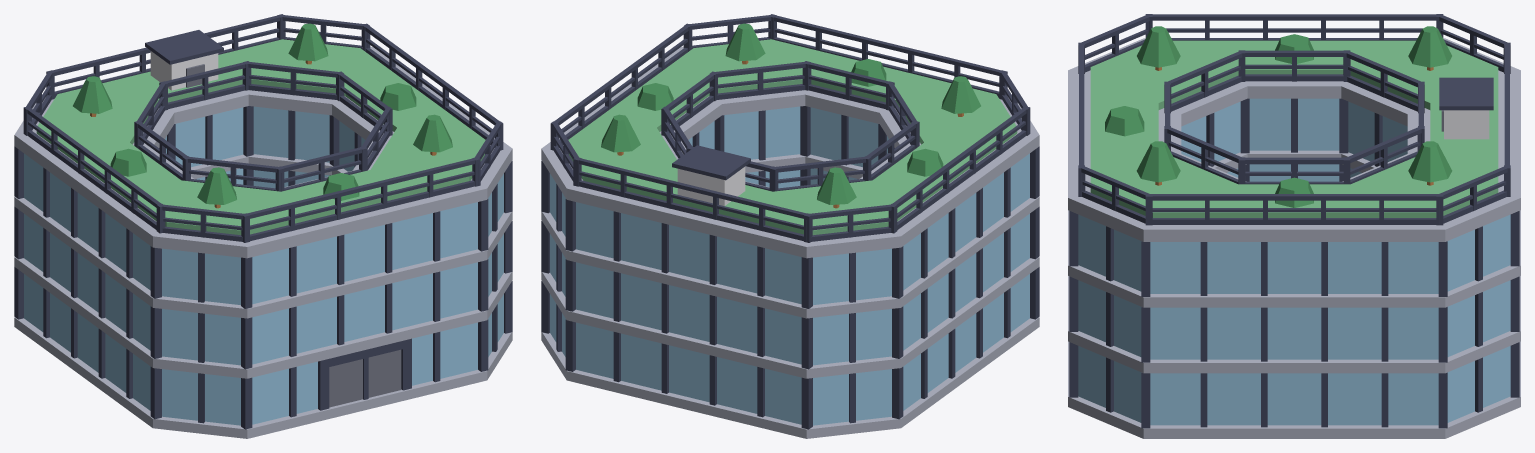
File: office-octagon-2x2-t2-tone-a.glb
The picture shows the model from 3 angles, left to right: view 1: azimuth 30°, elevation 25°; view 2: azimuth 150°, elevation 25°; view 3: azimuth 270°, elevation 25°; orthographic projection. The views are drawn at different scales.
Parts seen in each view (by area): view 1: office-octagon-2x2-t2-tone-a; view 2: office-octagon-2x2-t2-tone-a; view 3: office-octagon-2x2-t2-tone-a.
Part boxes in pixels (x1,y1,x2,y2): office-octagon-2x2-t2-tone-a: (14, 14, 512, 438); office-octagon-2x2-t2-tone-a: (541, 14, 1039, 438); office-octagon-2x2-t2-tone-a: (1068, 14, 1520, 438).
Bounding box in the file's own units: 2 × 1.25 × 2.
Materials: 1 (1 with a texture image).
